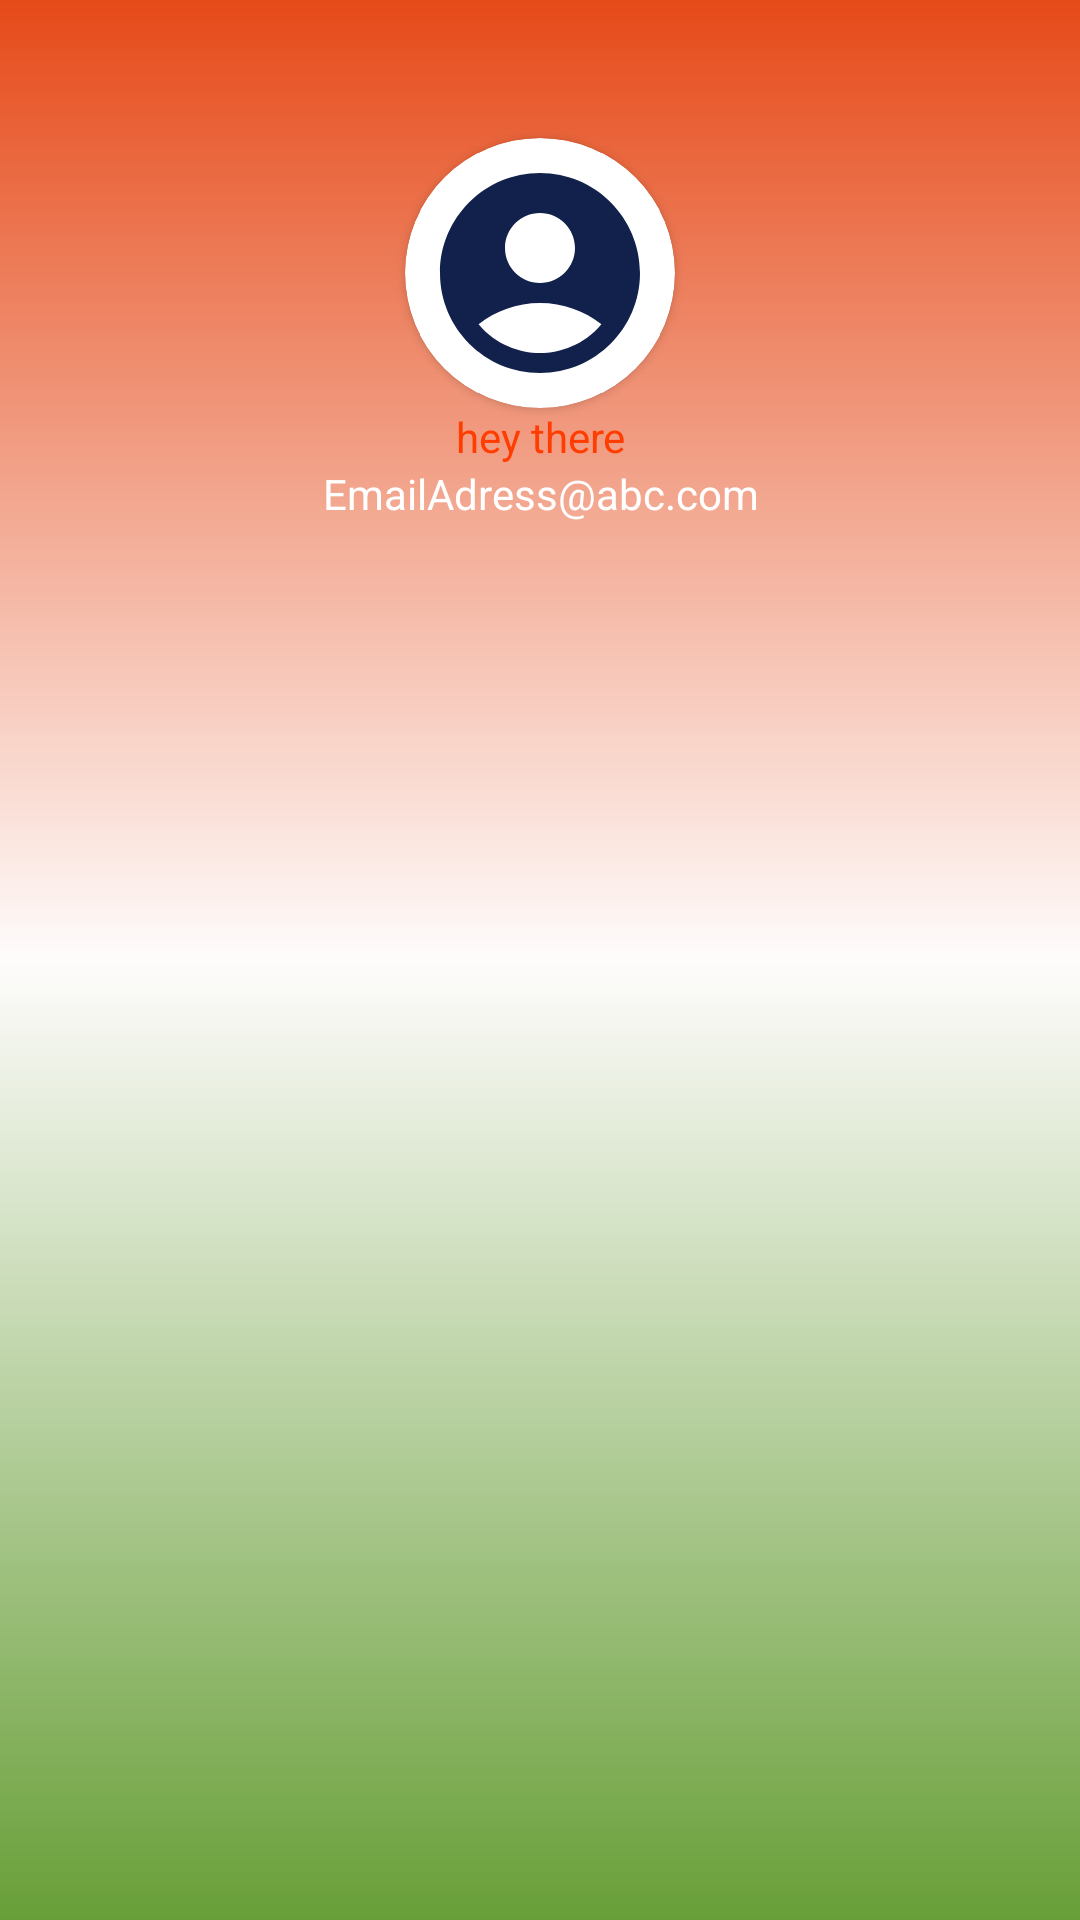

Screen size 1080px×1920px. Icon name, then its center in pixels as (x=x, y=y):
account circle: (x=540, y=273)
